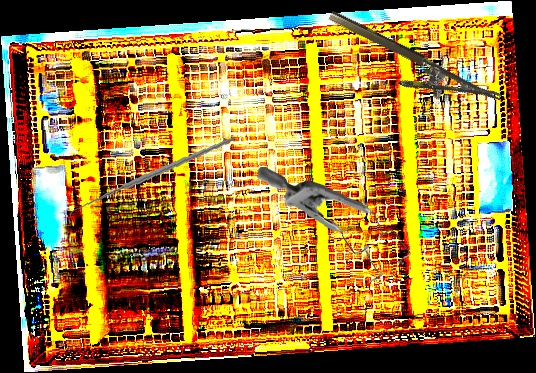Hook Surgical: (69, 120, 234, 239)
Needle Holder: (316, 9, 503, 128)
Speculum: (252, 166, 415, 285)
